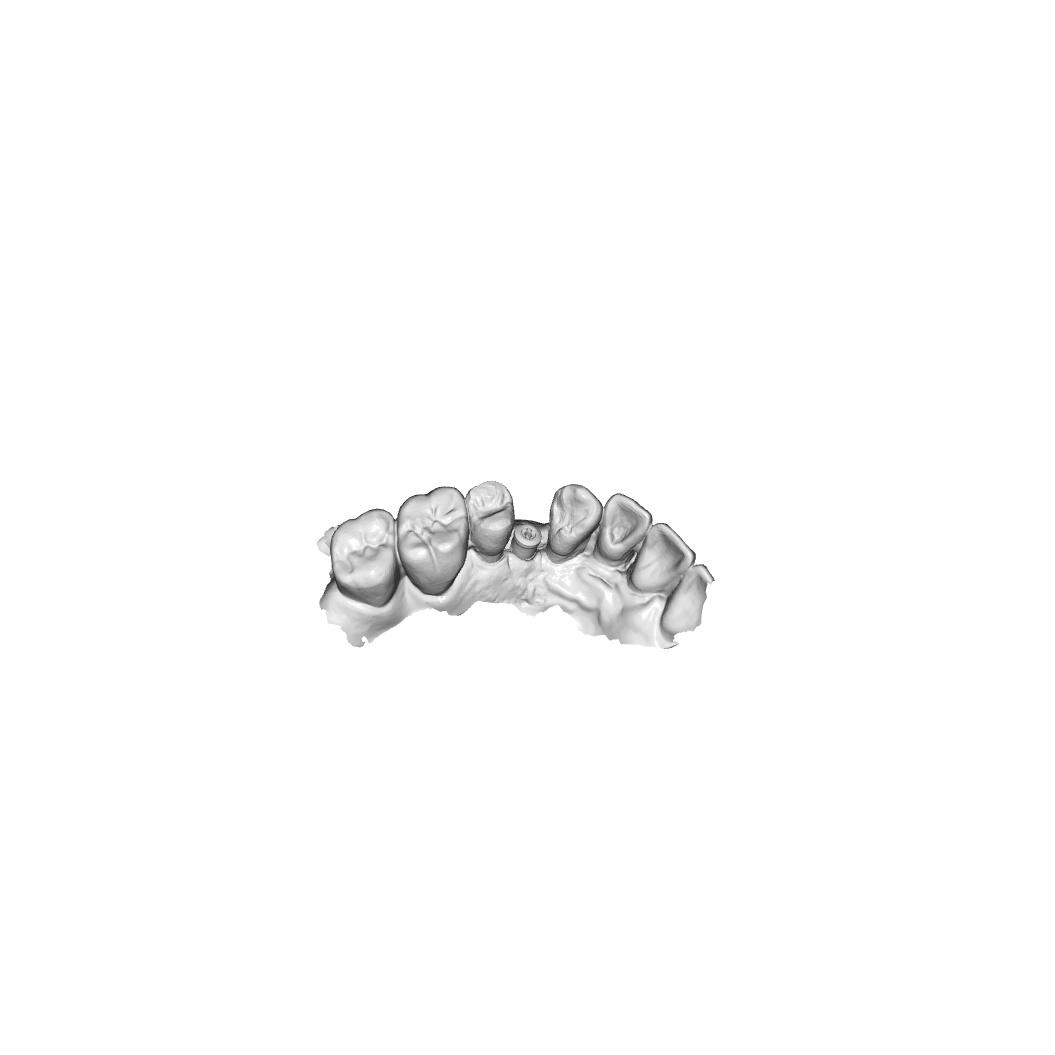canine: (545, 482, 604, 565)
implant_plus: (509, 523, 543, 563)
incisor: (626, 521, 697, 596), (592, 493, 653, 566), (658, 562, 715, 634)
molar: (396, 485, 471, 597), (328, 507, 402, 609)
premolar: (464, 479, 516, 564)
